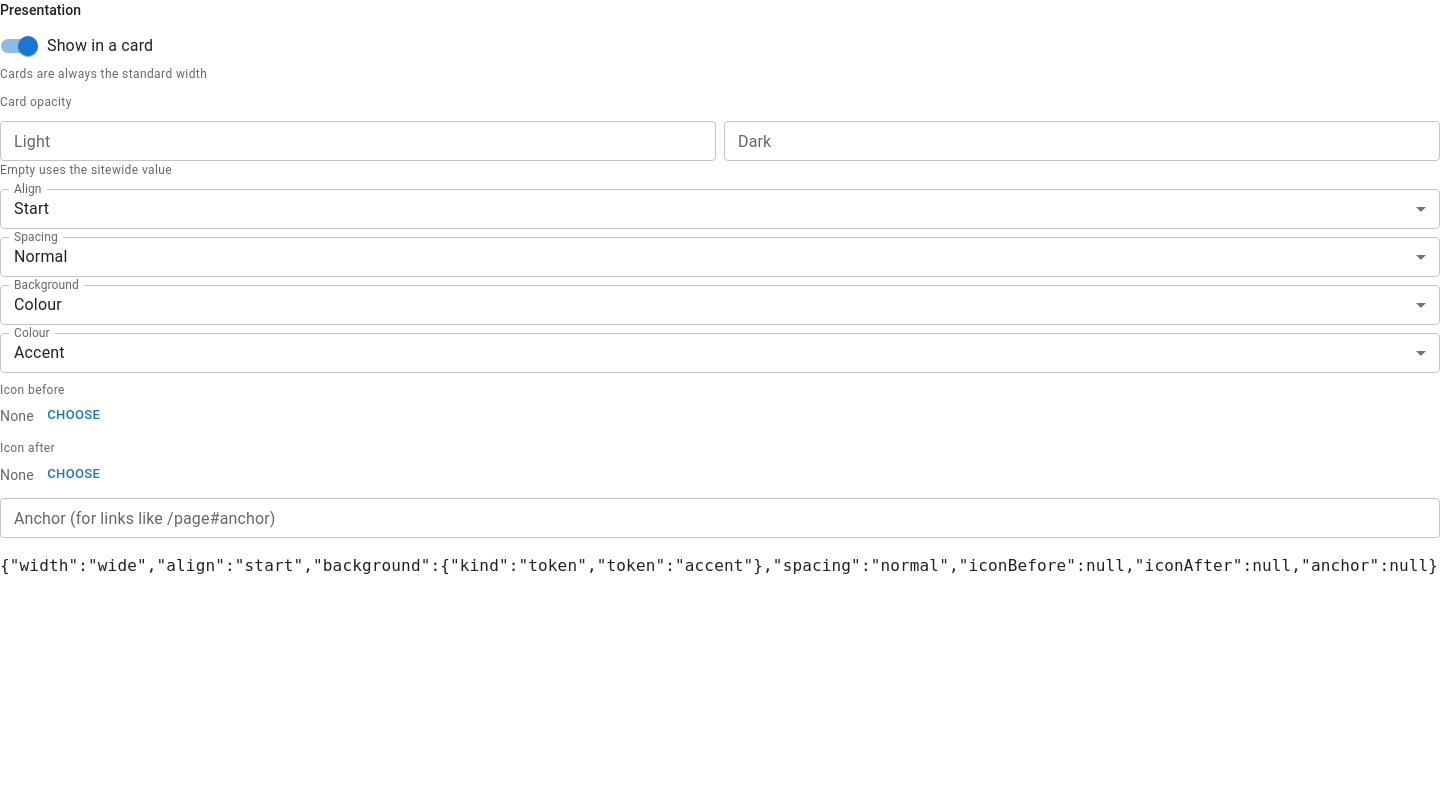
PresentationPanel: media background › cancelling the picker leaves the previous background untouched
The image size is (1440, 810).
Press the mouse on the dropdown named "background" at [38, 305], box [14,295,62,314]
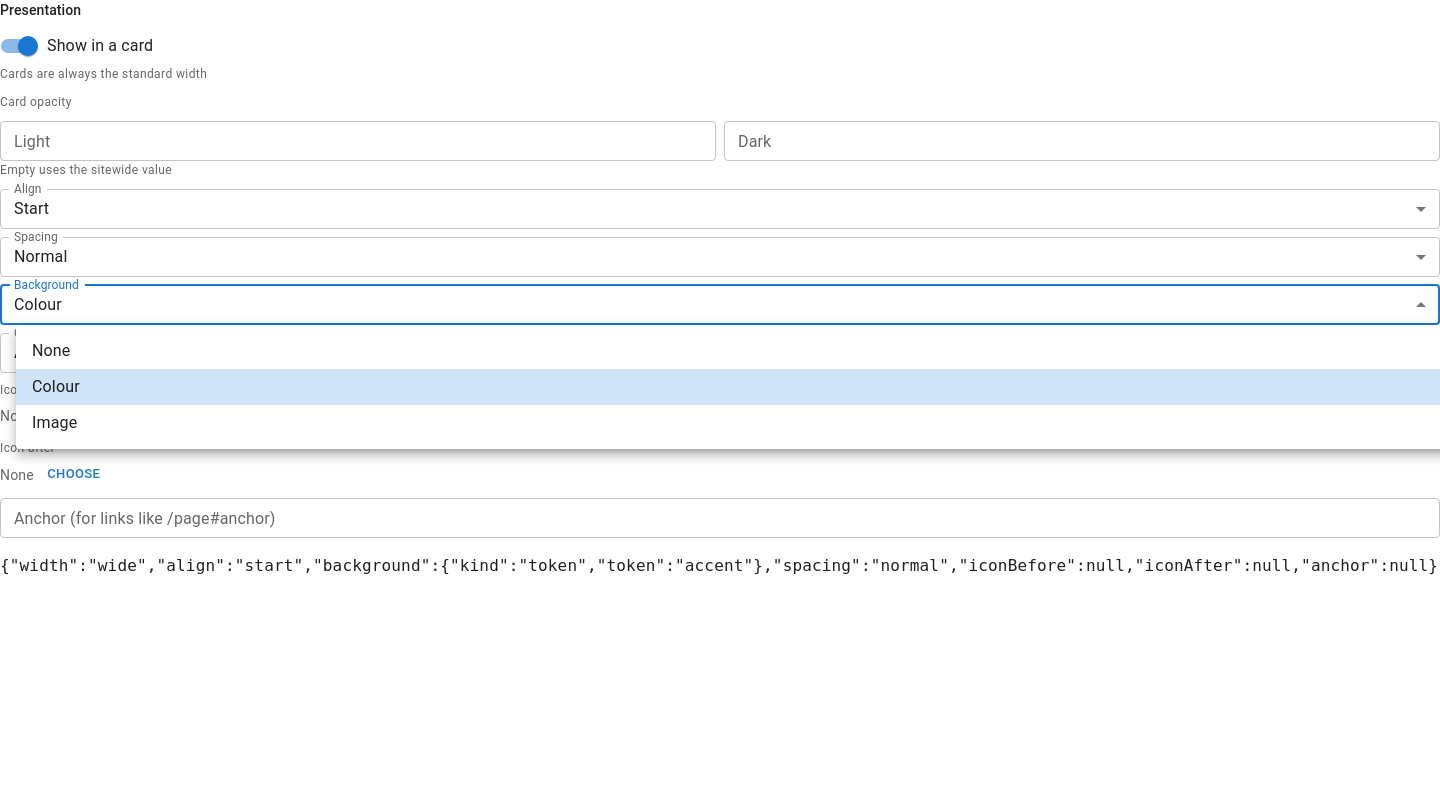
Click the option "Image" at [55, 422], box [32,413,77,432]
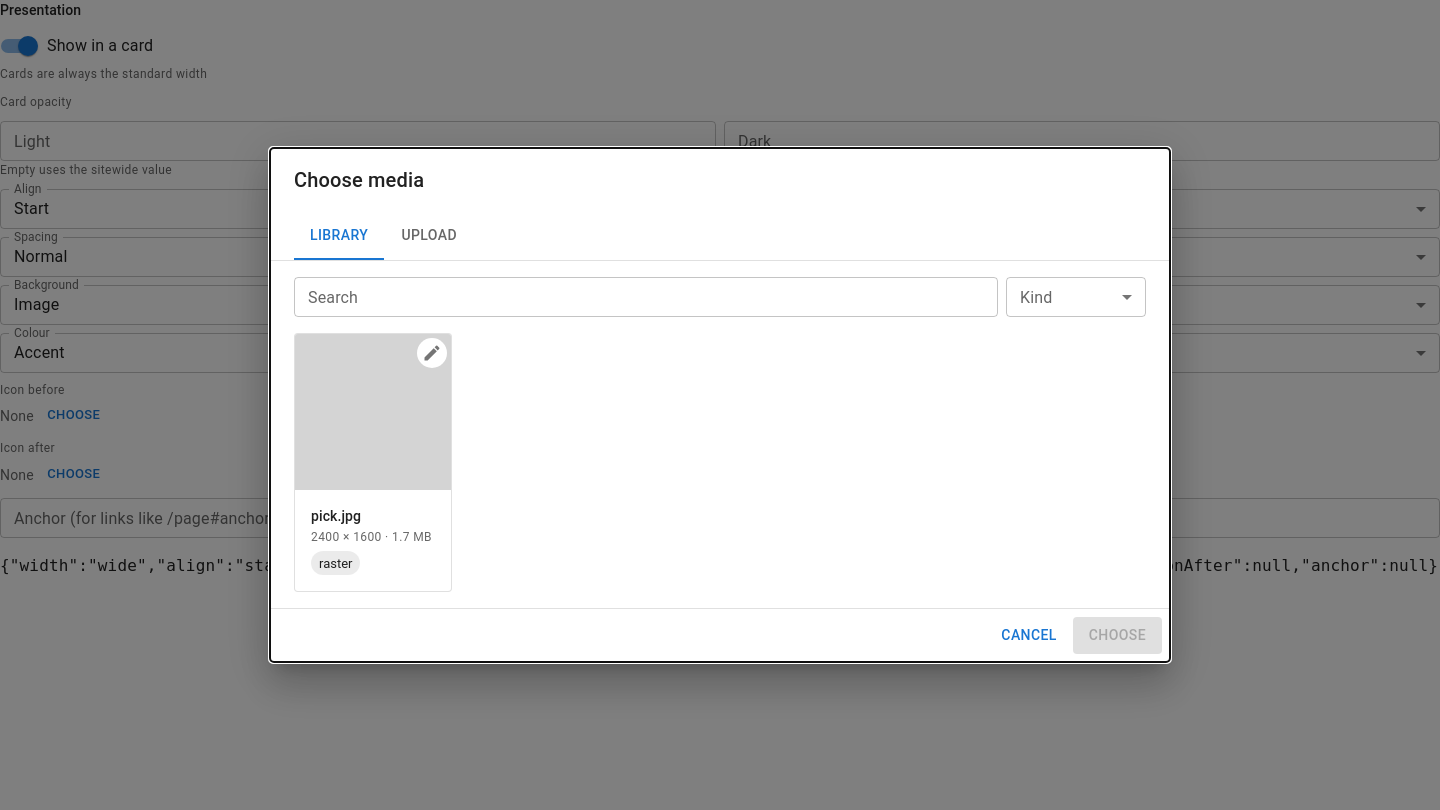
Click the button "Cancel" at [1029, 636], box [993,618,1065,654]
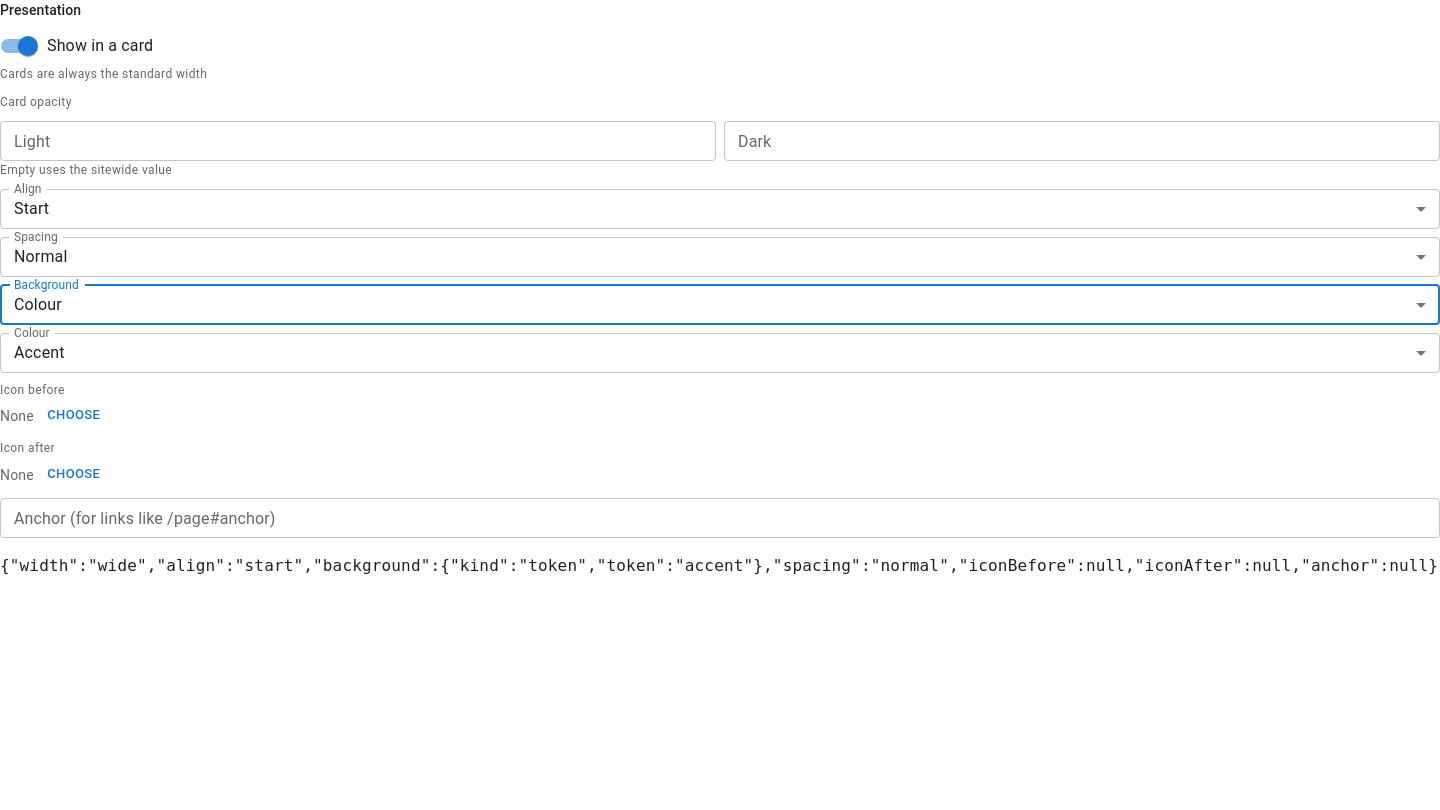
Expected: the dialog is gone
